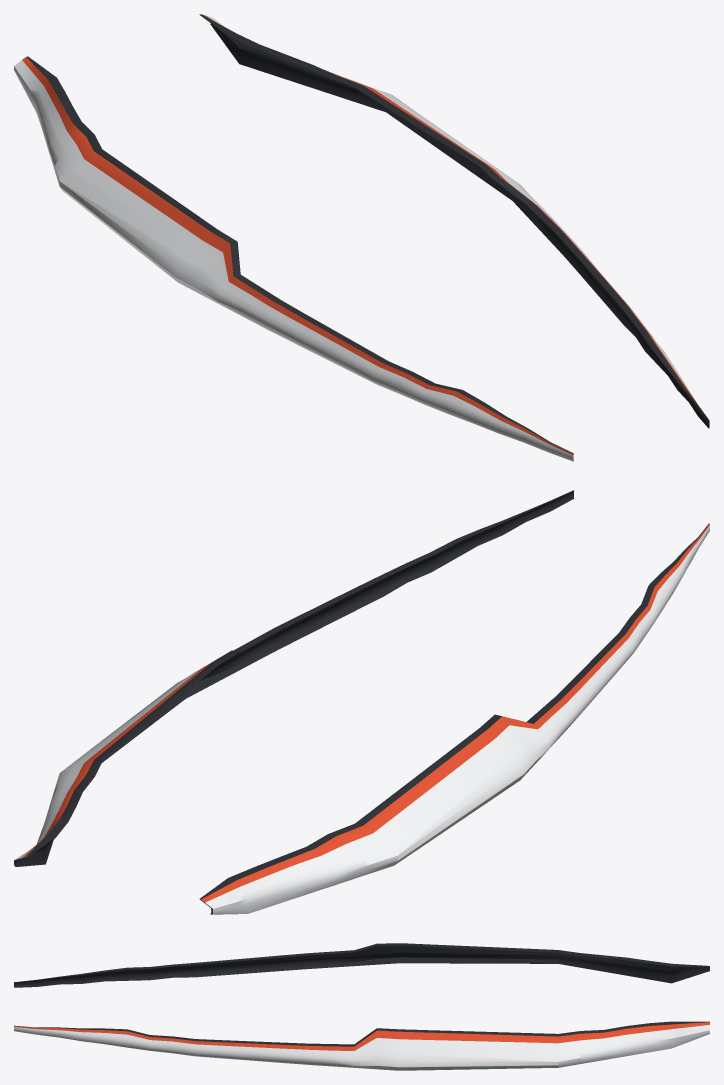
Rendered from vortex_armor_lg.fbx.
3 views of the same model, one above another, from view 1: azimuth 30°, elevation 25°; view 2: azimuth 150°, elevation 25°; view 3: azimuth 270°, elevation 25° (orthographic). The views are drawn at different scales.
Visible parts, largest first — view 1: Armor_Streamliner; view 2: Armor_Streamliner; view 3: Armor_Streamliner.
Boxes of the visible parts, x1,y1,x2,y2 form: Armor_Streamliner: [14, 14, 709, 461]; Armor_Streamliner: [14, 490, 709, 914]; Armor_Streamliner: [14, 943, 709, 1070].
Bounding box in the file's own units: 188 × 22.22 × 492.
